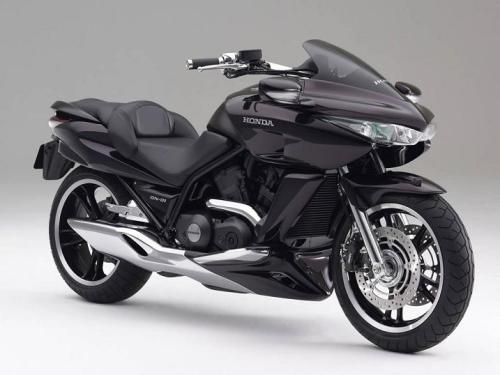motor: (32, 36, 471, 353)
